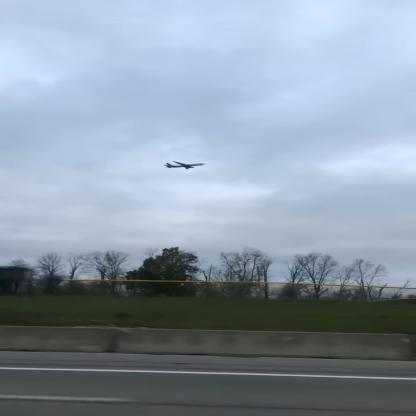plane: (164, 156, 211, 175)
